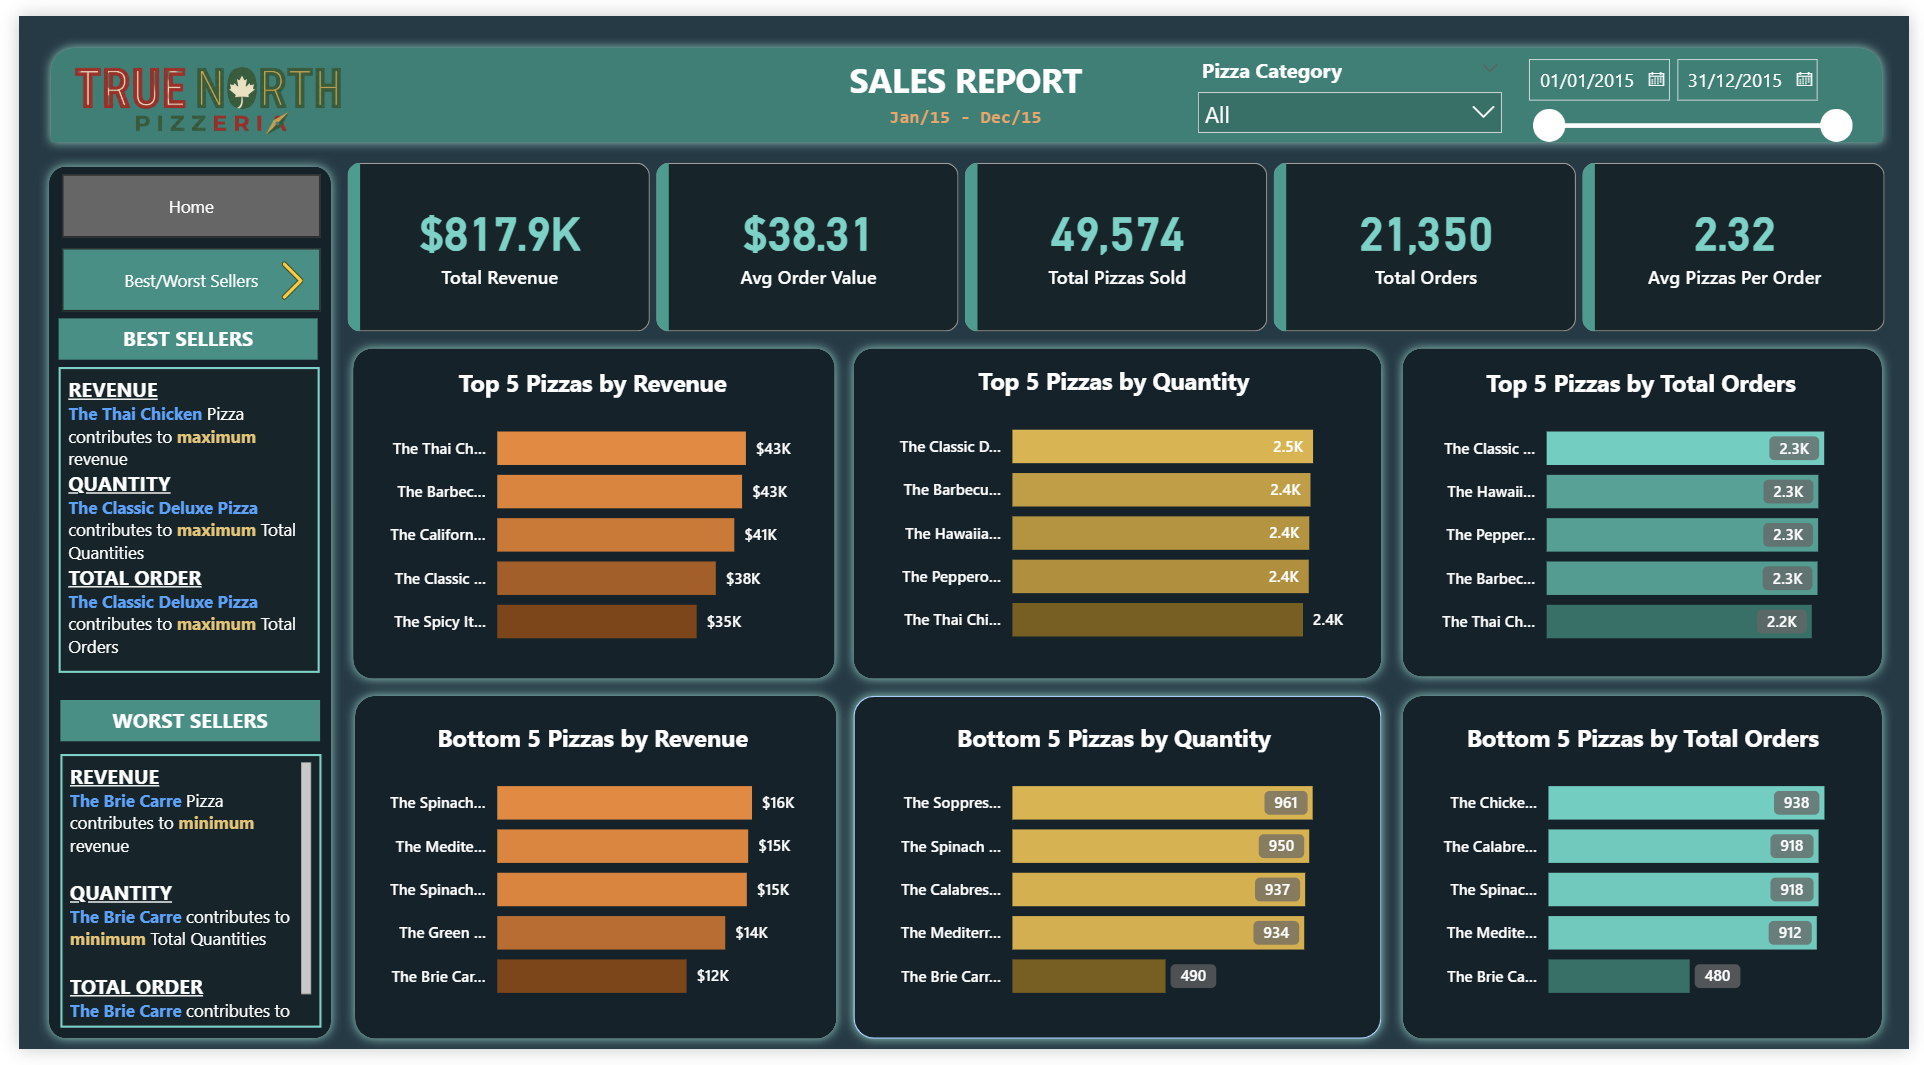

What the dashboard file says about the page in this screenshot:
{"tool":"powerbi","page":{"name":"Best/Worst Sellers","canvas":[1500,820],"ordinal":1},"visuals":[{"type":"cardVisual","fields":{"Data":["pizza_sales.Total Revenue","pizza_sales.Avg Order Value","pizza_sales.Total Pizzas Sold","pizza_sales.Total Orders","pizza_sales.Avg Pizzas Per Order"]},"box":[256,112,1230,144],"z":0},{"type":"shape","box":[16.7,16.7,1469.5,91],"z":1000},{"type":"textbox","box":[603.6,27.3,294.2,48.5],"z":2000},{"type":"textbox","box":[680.9,65.2,139.5,31.8],"z":3000},{"type":"shape","box":[16,112,240,708],"z":4000},{"type":"textbox","box":[31.4,240,205.7,32.9],"z":5000},{"type":"textbox","box":[31.4,278.6,207.1,242.9],"z":6000},{"type":"textbox","box":[33,586,207,217],"z":7000},{"type":"textbox","box":[33,543,206,33],"z":8000},{"type":"slicer","fields":{"Values":["pizza_sales.pizza_category"]},"box":[925.1,27.3,260.8,74.3],"z":9000},{"type":"slicer","fields":{"Values":["pizza_sales.order_date"]},"box":[1185.9,24.3,277.5,95.5],"z":10000},{"type":"shape","box":[256.7,255,398.3,278.3],"z":11000},{"type":"shape","box":[655,255,435,278.3],"z":12000},{"type":"shape","box":[1090,255,396.7,276.7],"z":13000},{"type":"shape","box":[258.3,531.7,398.3,288.3],"z":14000},{"type":"shape","box":[655,531.7,435,288.3],"z":15000},{"type":"shape","box":[1090,531.7,396.7,288.3],"z":16000},{"type":"barChart","title":"Top 5 Pizzas by Revenue","fields":{"Category":["pizza_sales.pizza_name"],"Y":["pizza_sales.Total Revenue"]},"box":[278.3,278.3,353.3,235],"z":17000},{"type":"barChart","title":"Bottom 5 Pizzas by Revenue","fields":{"Category":["pizza_sales.pizza_name"],"Y":["pizza_sales.Total Revenue"]},"box":[278.3,560,353.3,235],"z":18000},{"type":"barChart","title":"Top 5 Pizzas by Quantity","fields":{"Category":["pizza_sales.pizza_name"],"Y":["pizza_sales.Total Pizzas Sold"]},"box":[681.7,276.7,375,235],"z":19000},{"type":"barChart","title":"Bottom 5 Pizzas by Quantity","fields":{"Category":["pizza_sales.pizza_name"],"Y":["pizza_sales.Total Pizzas Sold"]},"box":[681.7,560,375,235],"z":20000},{"type":"barChart","title":"Top 5 Pizzas by Total Orders","fields":{"Category":["pizza_sales.pizza_name"],"Y":["pizza_sales.Total Orders"]},"box":[1111.7,278.3,351.7,235],"z":21000},{"type":"barChart","title":"Bottom 5 Pizzas by Total Orders","fields":{"Category":["pizza_sales.pizza_name"],"Y":["pizza_sales.Total Orders"]},"box":[1113.3,560,351.7,235],"z":22000},{"type":"pageNavigator","box":[34.3,184.3,205.7,50],"z":23000},{"type":"pageNavigator","box":[34.3,125.7,205.7,50],"z":24000},{"type":"image","box":[197.1,190,40,40],"z":25000},{"type":"image","box":[0,6.9,299.9,117.9],"z":26000}]}

Visuals, with their boxes in screenshot pixels (x1, y1, x2, y2), scaled from the page's 1500x820 canvas onto the 1924x1065 screenshot:
cardVisual - pizza_sales.Total Revenue x pizza_sales.Avg Order Value: x1=328, y1=145, x2=1906, y2=332
shape: x1=21, y1=22, x2=1906, y2=140
textbox: x1=774, y1=35, x2=1152, y2=98
textbox: x1=873, y1=85, x2=1052, y2=126
shape: x1=21, y1=145, x2=328, y2=1064
textbox: x1=40, y1=312, x2=304, y2=354
textbox: x1=40, y1=362, x2=306, y2=677
textbox: x1=42, y1=761, x2=308, y2=1043
textbox: x1=42, y1=705, x2=307, y2=748
slicer - pizza_sales.pizza_category: x1=1187, y1=35, x2=1521, y2=132
slicer - pizza_sales.order_date: x1=1521, y1=32, x2=1877, y2=156
shape: x1=329, y1=331, x2=840, y2=693
shape: x1=840, y1=331, x2=1398, y2=693
shape: x1=1398, y1=331, x2=1907, y2=691
shape: x1=331, y1=691, x2=842, y2=1064
shape: x1=840, y1=691, x2=1398, y2=1064
shape: x1=1398, y1=691, x2=1907, y2=1064
"Top 5 Pizzas by Revenue" barChart: x1=357, y1=361, x2=810, y2=667
"Bottom 5 Pizzas by Revenue" barChart: x1=357, y1=727, x2=810, y2=1033
"Top 5 Pizzas by Quantity" barChart: x1=874, y1=359, x2=1355, y2=665
"Bottom 5 Pizzas by Quantity" barChart: x1=874, y1=727, x2=1355, y2=1033
"Top 5 Pizzas by Total Orders" barChart: x1=1426, y1=361, x2=1877, y2=667
"Bottom 5 Pizzas by Total Orders" barChart: x1=1428, y1=727, x2=1879, y2=1033
pageNavigator: x1=44, y1=239, x2=308, y2=304
pageNavigator: x1=44, y1=163, x2=308, y2=228
image: x1=253, y1=247, x2=304, y2=299
image: x1=0, y1=9, x2=385, y2=162
